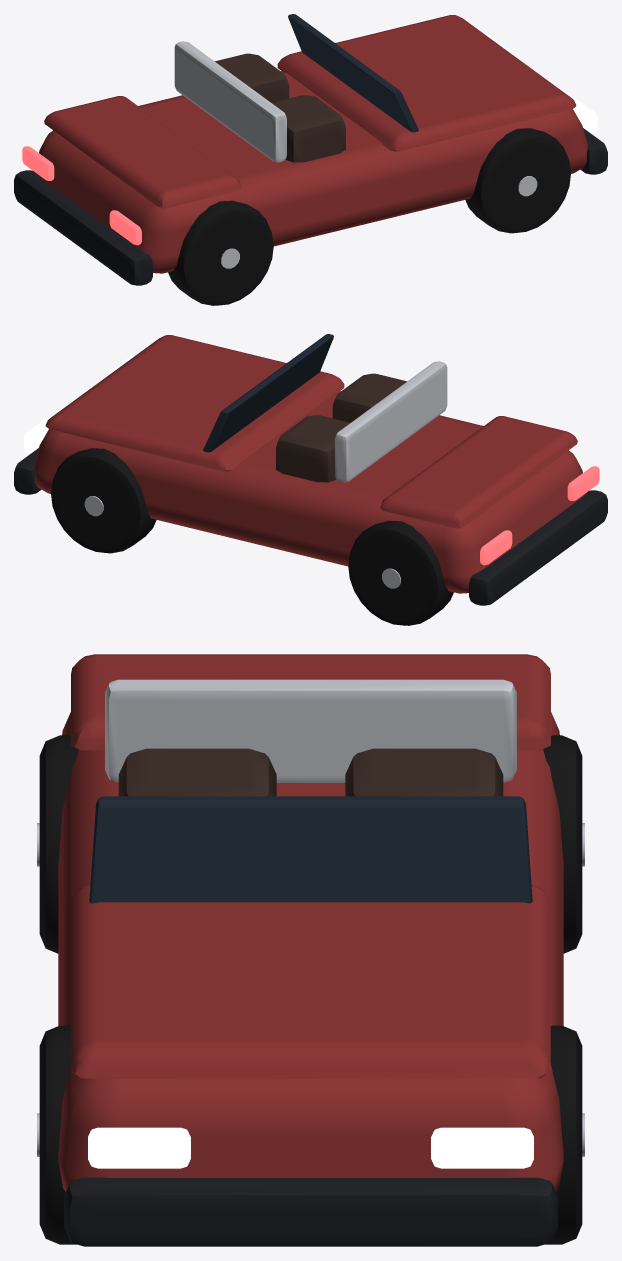
The model's file is roadster.glb.
3 renders of one model, top to bottom at view 1: azimuth 30°, elevation 25°; view 2: azimuth 150°, elevation 25°; view 3: azimuth 270°, elevation 25°, orthographic. The views are drawn at different scales.
Visible parts, largest first — view 1: part-paint, wheel-+10--1-tyre, wheel--10--1-tyre, part-chrome, part-trim, part-seat, part-glass, part-taillight, headlight--1; view 2: part-paint, wheel-+10-1-tyre, wheel--10-1-tyre, part-chrome, part-trim, part-seat, part-glass, part-taillight, headlight-1; view 3: part-paint, part-glass, part-trim, part-chrome, part-seat, wheel-+10-1-tyre, wheel-+10--1-tyre, wheel--10-1-tyre, wheel--10--1-tyre, headlight-1, headlight--1.
Boxes of the visible parts, x1,y1,x2,y2 form: part-paint: (35,15,587,273); wheel-+10--1-tyre: (465,128,570,233); wheel--10--1-tyre: (168,200,273,305); part-chrome: (174,41,286,162); part-trim: (14,128,607,285); part-seat: (215,53,345,162); part-glass: (288,14,418,132); part-taillight: (22,146,141,245); headlight--1: (571,97,597,132); part-paint: (34,335,586,593); wheel-+10-1-tyre: (51,448,156,553); wheel--10-1-tyre: (348,520,453,625); part-chrome: (335,361,447,482); part-trim: (14,448,607,605); part-seat: (276,373,406,482); part-glass: (203,334,333,452); part-taillight: (480,466,599,565); headlight-1: (24,417,50,452); part-paint: (58,654,563,1191); part-glass: (89,796,532,903); part-trim: (64,1177,557,1246); part-chrome: (105,679,516,782); part-seat: (118,748,503,796); wheel-+10-1-tyre: (545,1025,582,1244); wheel-+10--1-tyre: (39,1025,76,1244); wheel--10-1-tyre: (543,735,582,953); wheel--10--1-tyre: (39,735,78,953); headlight-1: (431,1127,533,1168); headlight--1: (88,1127,190,1168).
Size of the model in its own units: 32.2 by 10.6 by 15.96.
